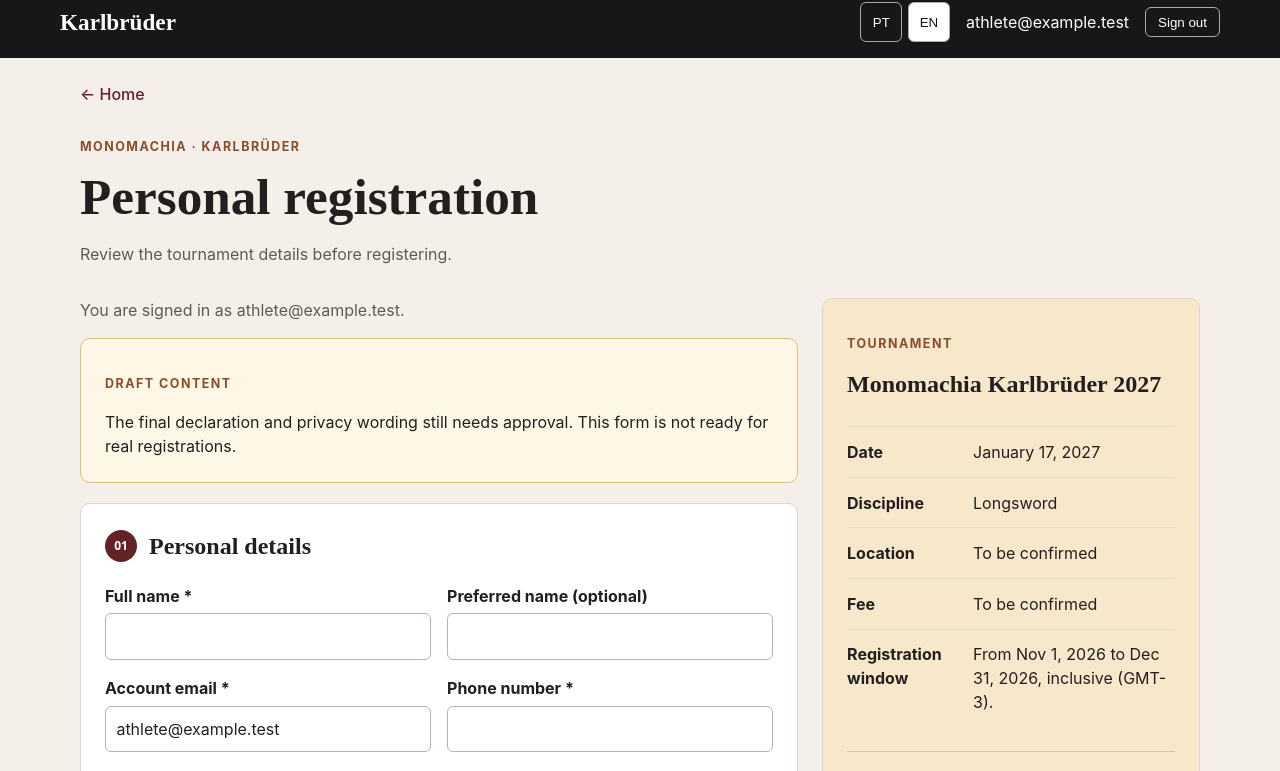
Test case: Monomachia registration entry › translates sign-out errors on the English private route
The width and height of the screenshot is (1280, 771).
Click the button "Sign out" at (1183, 22), box [1145, 7, 1220, 37]
(page scrolled)
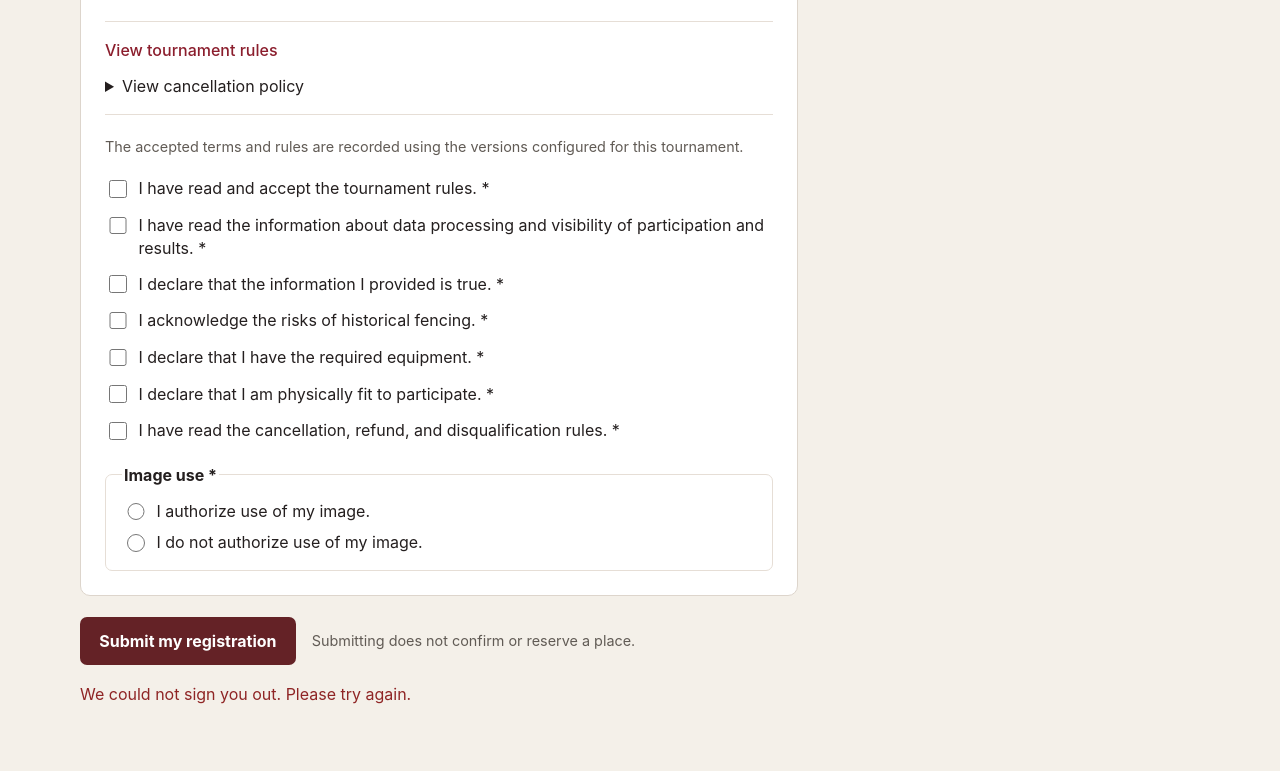
Check: the message shows "We could not sign you out.", box [80, 684, 411, 704]
